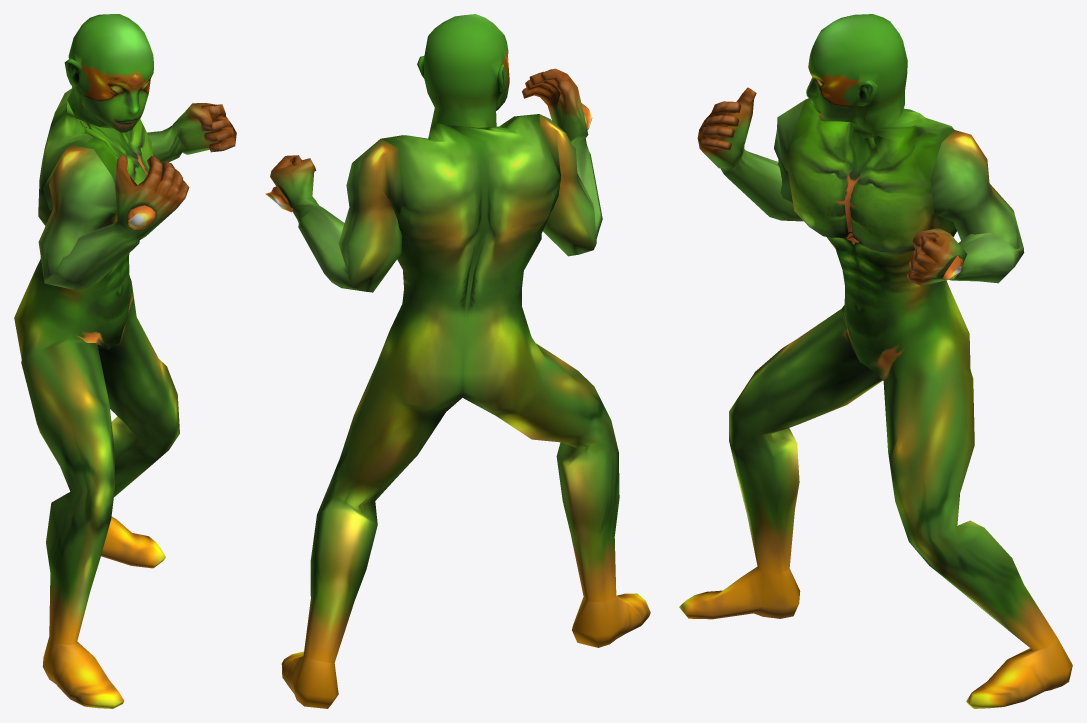
File: Magma Avatar.fbx
3 views of the same model, side by side, from view 1: azimuth 30°, elevation 25°; view 2: azimuth 150°, elevation 25°; view 3: azimuth 270°, elevation 25° (orthographic). The views are drawn at different scales.
Parts seen in each view (by area): view 1: Body, Head, Effect; view 2: Body, Head; view 3: Body, Head.
Part boxes in pixels (bbox=[...]): Body: bbox=[14, 88, 179, 708]; Head: bbox=[38, 14, 236, 290]; Effect: bbox=[127, 205, 155, 229]; Body: bbox=[281, 114, 650, 708]; Head: bbox=[270, 14, 602, 292]; Body: bbox=[679, 99, 1072, 708]; Head: bbox=[697, 14, 1024, 285].
Size of the model in its own units: 660 by 1471 by 820.
Materials: 3 (3 with a texture image).
